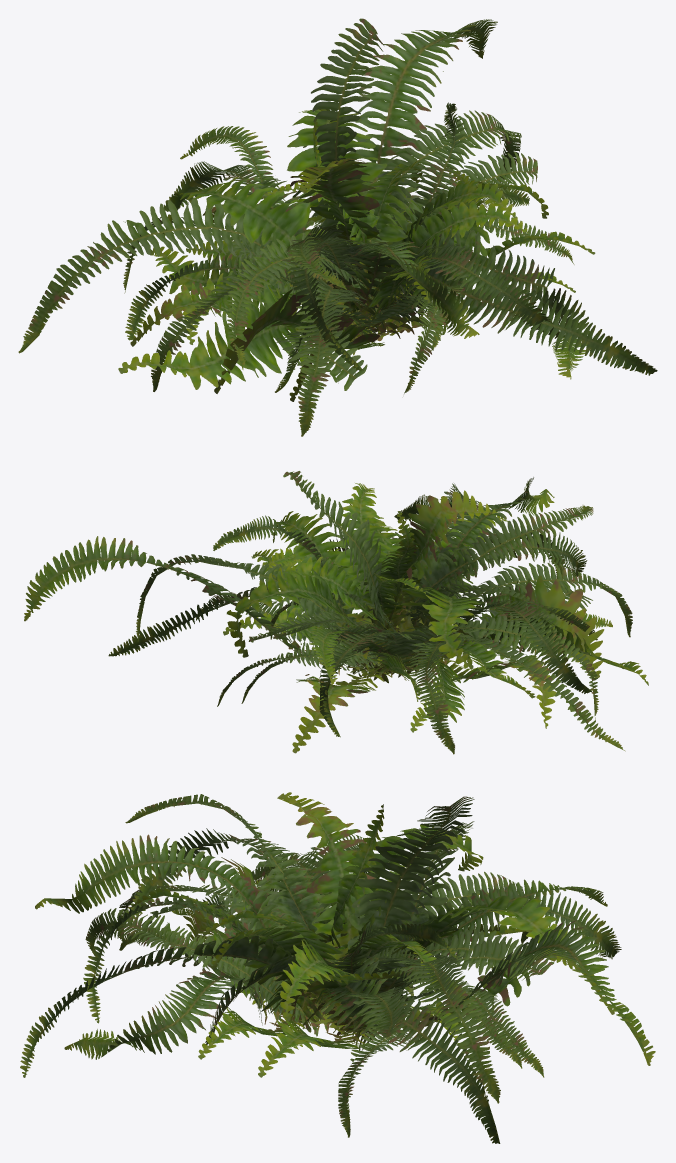
File: fern.glb
The picture shows the model from 3 angles, top to bottom: view 1: azimuth 30°, elevation 25°; view 2: azimuth 150°, elevation 25°; view 3: azimuth 270°, elevation 25°; orthographic projection. The views are drawn at different scales.
Parts seen in each view (by area): view 1: fern_02_b, fern_02_c, fern_02_d, fern_02_a; view 2: fern_02_b, fern_02_c, fern_02_a, fern_02_d; view 3: fern_02_b, fern_02_c, fern_02_a, fern_02_d.
Boxes of the visible parts, x1,y1,x2,y2 form: fern_02_b: (18,18,657,436); fern_02_c: (118,118,589,401); fern_02_d: (150,169,575,392); fern_02_a: (182,102,554,351); fern_02_b: (24,471,632,753); fern_02_c: (108,483,648,754); fern_02_a: (213,515,535,706); fern_02_d: (267,510,612,732); fern_02_b: (20,792,655,1137); fern_02_c: (64,794,607,1143); fern_02_a: (119,865,554,1077); fern_02_d: (131,849,532,1059).
Bounding box in the file's own units: 0.9897 × 0.4277 × 0.8937.
1 material, 1 textured.
